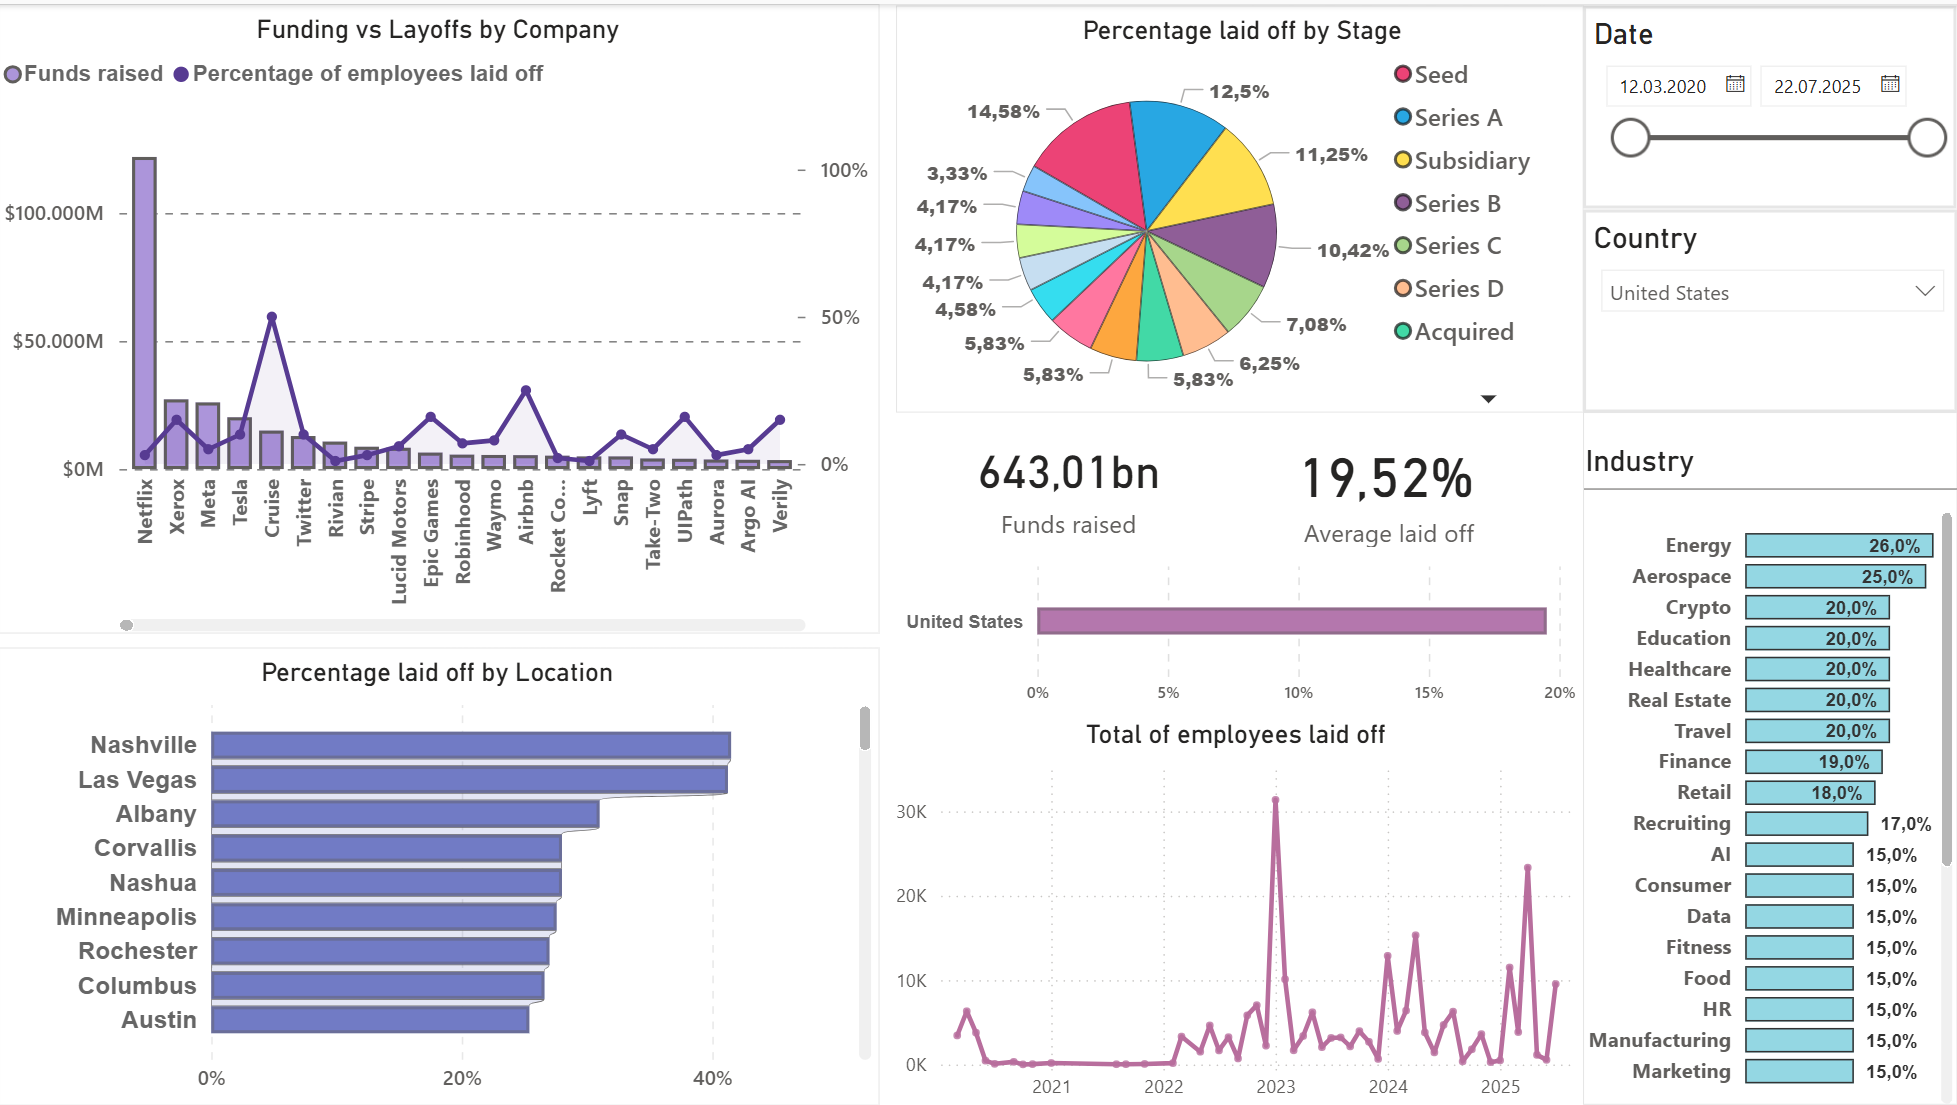

The page's visual inventory and layout, read from the dashboard file:
{"tool":"powerbi","page":{"name":"Страница 1","canvas":[1280,720],"ordinal":0},"visuals":[{"type":"lineStackedColumnComboChart","title":"Funding vs Layoffs by Company","fields":{"Category":["layoffs.company"],"Y":["Sum(layoffs.funds_raised)"],"Y2":["Sum(layoffs.percentage_laid_off)"]},"box":[0,0,575.2,411.2],"z":0},{"type":"barChart","title":"Percentage laid off by Location","fields":{"Category":["layoffs.location"],"Y":["Divide(Median(layoffs.percentage_laid_off), ScopedEval(Median(layoffs.percentage_laid_off), []))"]},"box":[0,420.3,575.2,299.7],"z":1000},{"type":"pieChart","title":"Percentage laid off by Stage","fields":{"Category":["layoffs.stage"],"Y":["Median(layoffs.percentage_laid_off)"]},"box":[585.8,1.1,449,266.1],"z":2000},{"type":"card","fields":{"Values":["Sum(layoffs.funds_raised)"]},"box":[585.8,267.1,225,92.5],"z":3000},{"type":"card","fields":{"Values":["Avg(layoffs.percentage_laid_off)"]},"box":[810.8,273.4,190.3,86.2],"z":4000},{"type":"barChart","fields":{"Category":["layoffs.country"],"Y":["Divide(Median(layoffs.percentage_laid_off), ScopedEval(Median(layoffs.percentage_laid_off), []))"]},"box":[585.8,359.7,449,102],"z":5000},{"type":"lineChart","title":"Total of employees laid off","fields":{"Y":["Sum(layoffs.total_laid_off)"],"Category":["layoffs.date.Изменение.Date Hierarchy.Year","layoffs.date.Изменение.Date Hierarchy.Month"]},"box":[585.8,461.3,449,258.7],"z":6000},{"type":"slicer","fields":{"Values":["layoffs.date"]},"box":[1034.8,1.1,245,163],"z":7000},{"type":"slicer","fields":{"Values":["layoffs.country"]},"box":[1034.8,134.6,245,132.5],"z":8000},{"type":"barChart","title":"Industry","fields":{"Category":["layoffs.industry"],"Y":["Median(layoffs.percentage_laid_off)"]},"box":[1034.8,266.8,245,453.2],"z":9000}]}

Visuals, with their boxes in screenshot pixels (x1, y1, x2, y2), scaled from the page's 1280x720 canvas onto the 1957x1105 screenshot:
"Funding vs Layoffs by Company" lineStackedColumnComboChart: bbox=(0, 0, 879, 631)
"Percentage laid off by Location" barChart: bbox=(0, 645, 879, 1104)
"Percentage laid off by Stage" pieChart: bbox=(896, 2, 1582, 410)
card - Sum(layoffs.funds_raised): bbox=(896, 410, 1240, 552)
card - Avg(layoffs.percentage_laid_off): bbox=(1240, 420, 1531, 552)
barChart - layoffs.country x Divide(Median(layoffs.percentage_laid_off), ScopedEval(Median(layoffs.percentage_laid_off), [])): bbox=(896, 552, 1582, 709)
"Total of employees laid off" lineChart: bbox=(896, 708, 1582, 1104)
slicer - layoffs.date: bbox=(1582, 2, 1956, 252)
slicer - layoffs.country: bbox=(1582, 207, 1956, 410)
"Industry" barChart: bbox=(1582, 409, 1956, 1104)
